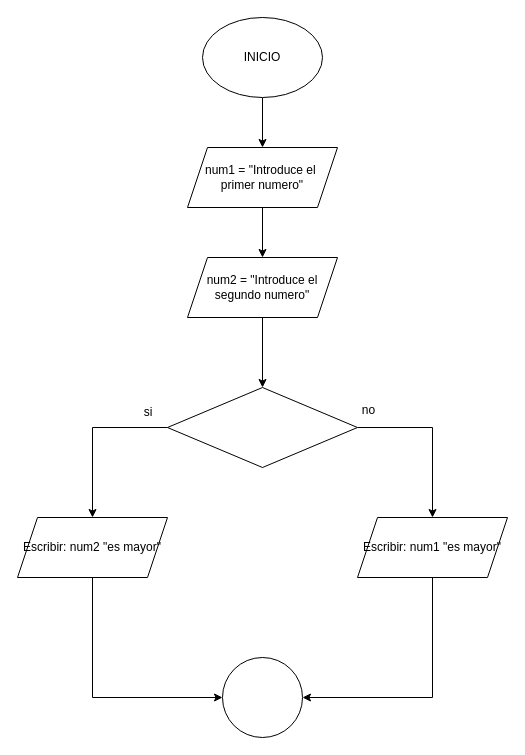
Some shapes in this 525 by 755 pixel diagram are drawn without their labels. Here are the shapes that lost their labels. From the top down, the centre of each, then its label:
At point 262,427: "num1< 0 ?".
At point 262,697: "FIN".
